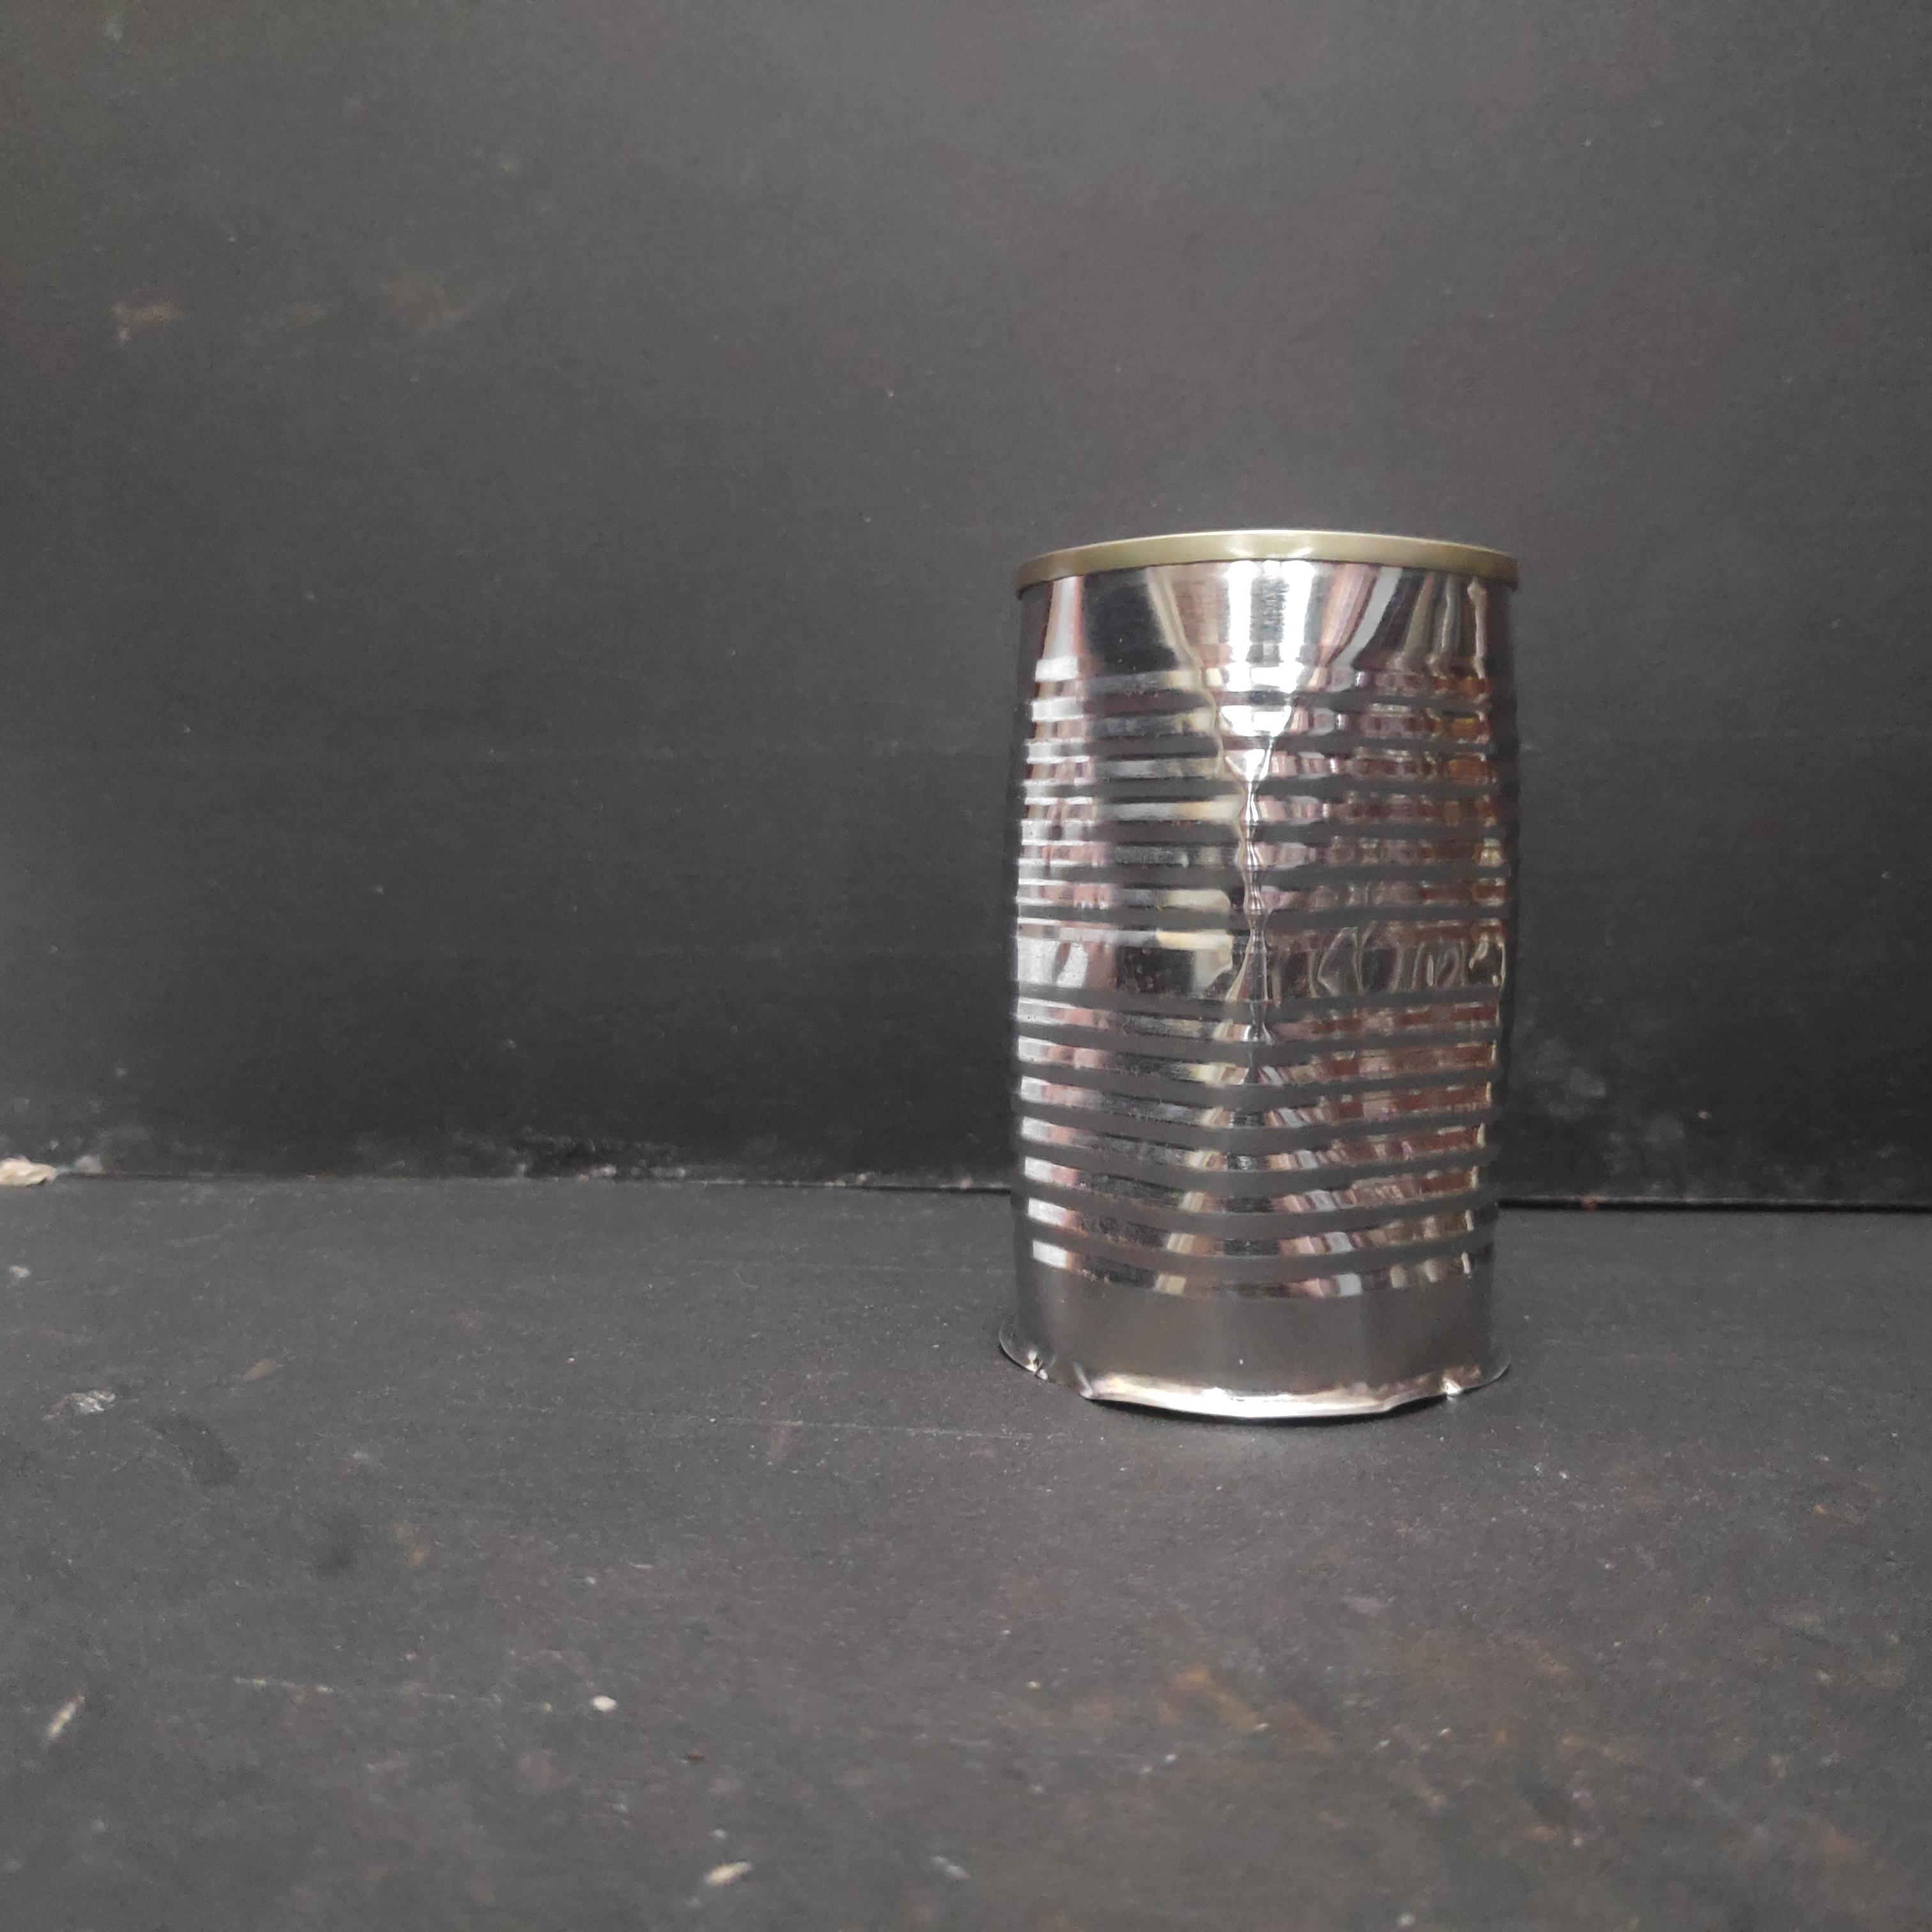Minor Defect: (988, 525, 1529, 1436)
